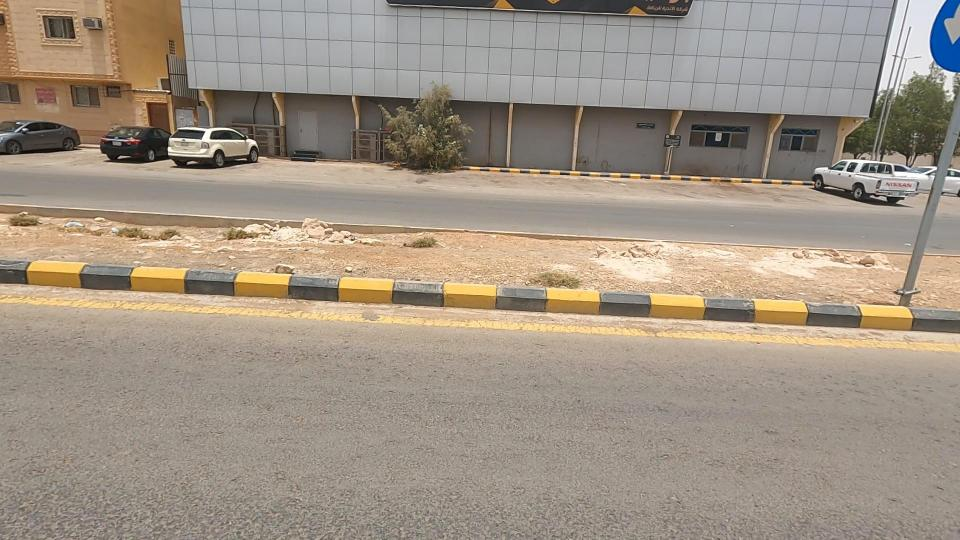CLUTTER_SIDEWALK: (203, 173, 901, 349), (0, 166, 455, 311)
